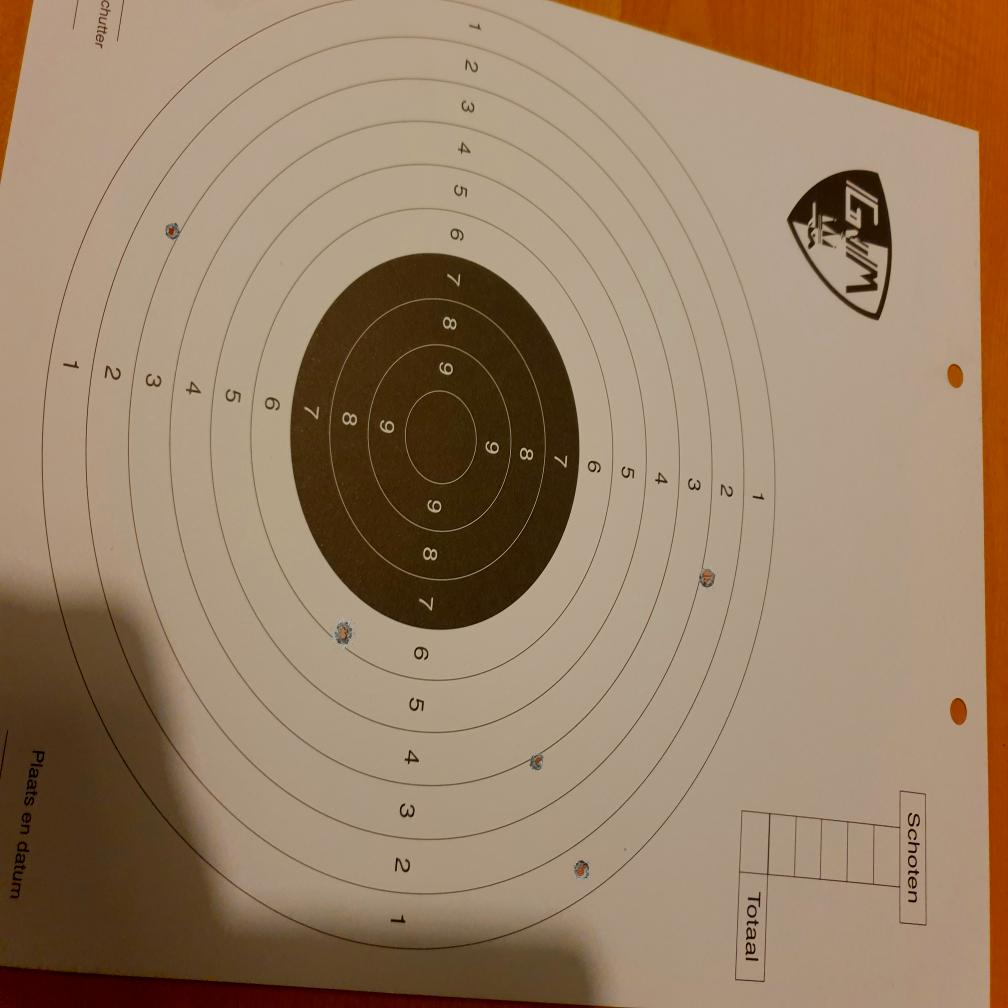1: (572, 859, 591, 881)
3: (698, 566, 717, 592), (164, 219, 182, 242)
4: (529, 751, 546, 773)
6: (332, 619, 354, 650)
Target: (39, 4, 773, 951)
black_contour: (291, 252, 577, 632)
